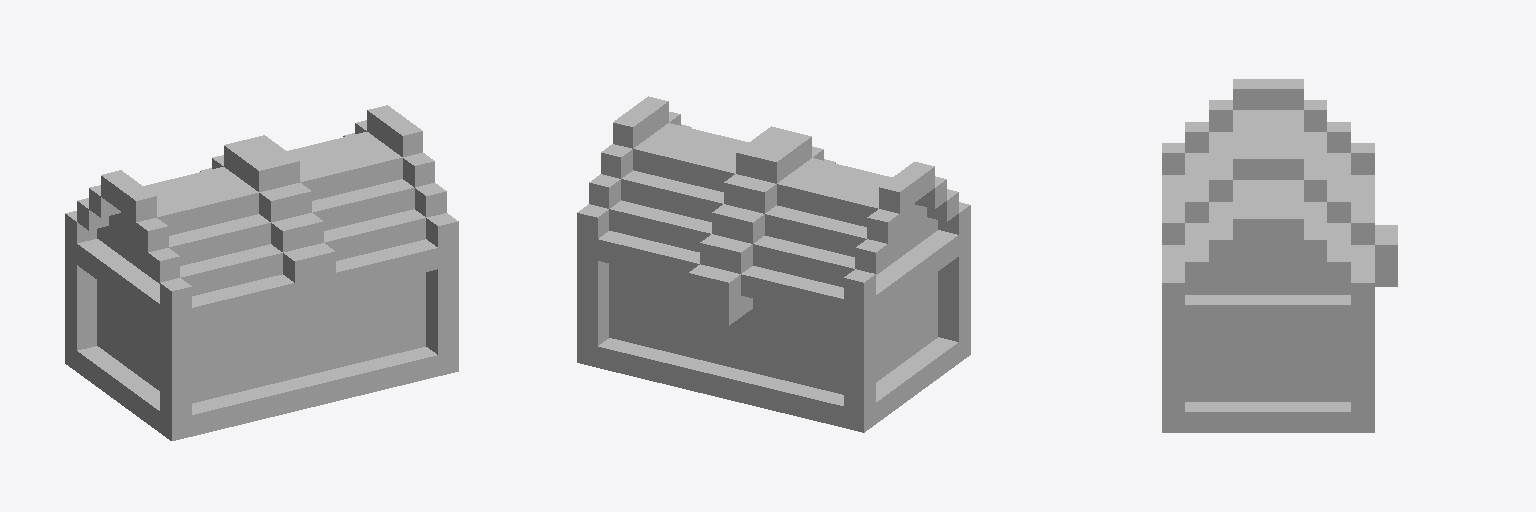
File: chest.obj
3 views of the same model, side by side, from view 1: azimuth 30°, elevation 25°; view 2: azimuth 150°, elevation 25°; view 3: azimuth 270°, elevation 25° (orthographic).
Visible parts, largest first — view 1: object 1; view 2: object 1; view 3: object 1.
Part boxes in pixels (bbox=[...]): object 1: bbox=[65, 105, 458, 440]; object 1: bbox=[577, 96, 970, 432]; object 1: bbox=[1162, 79, 1397, 432].
Bounding box in the file's own units: 1.4 × 1 × 1.